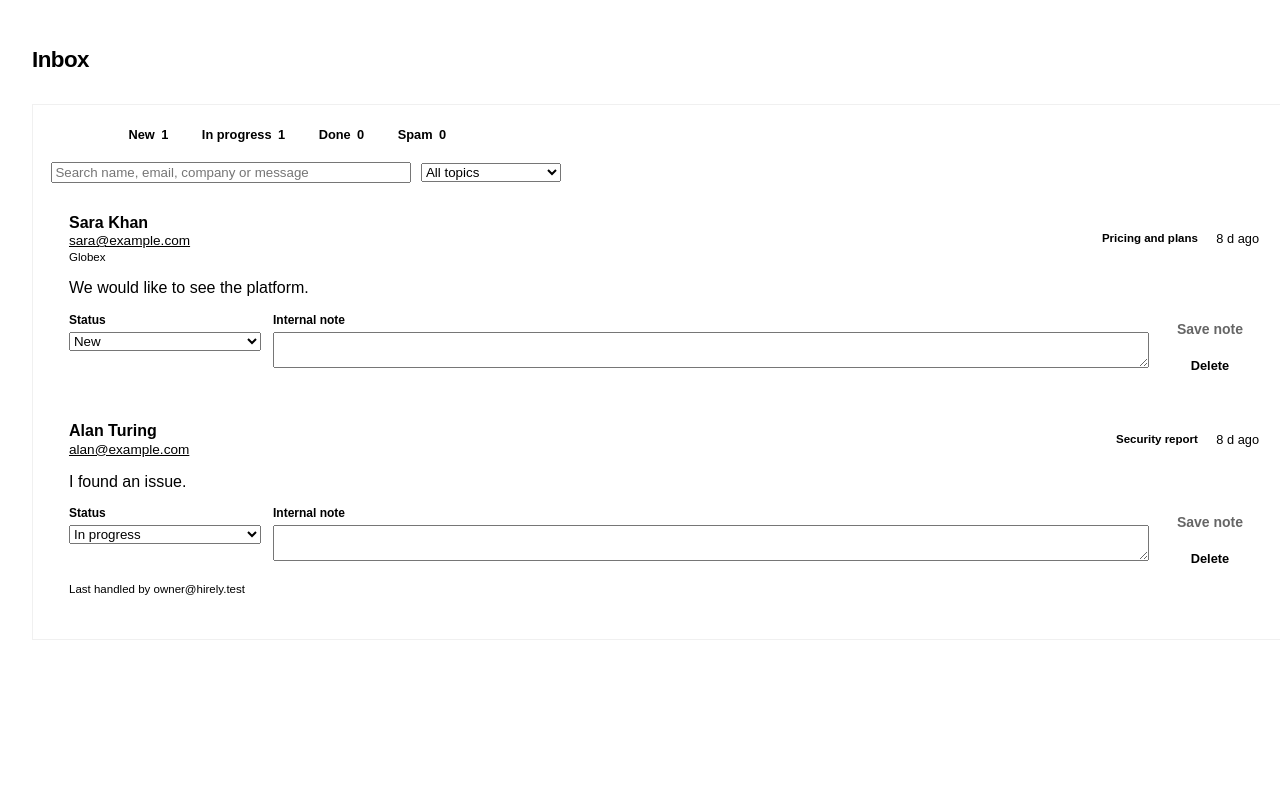
Test: PlatformInboxPage: working a message › shows the server wording when a change is refused
Check: the text "Sara Khan" is shown, box [69,214,148,230]
Type "x" into the text box labelled "Internal note" below "Sara Khan".
click(711, 350); type("x")  # box [273,332,1149,368]
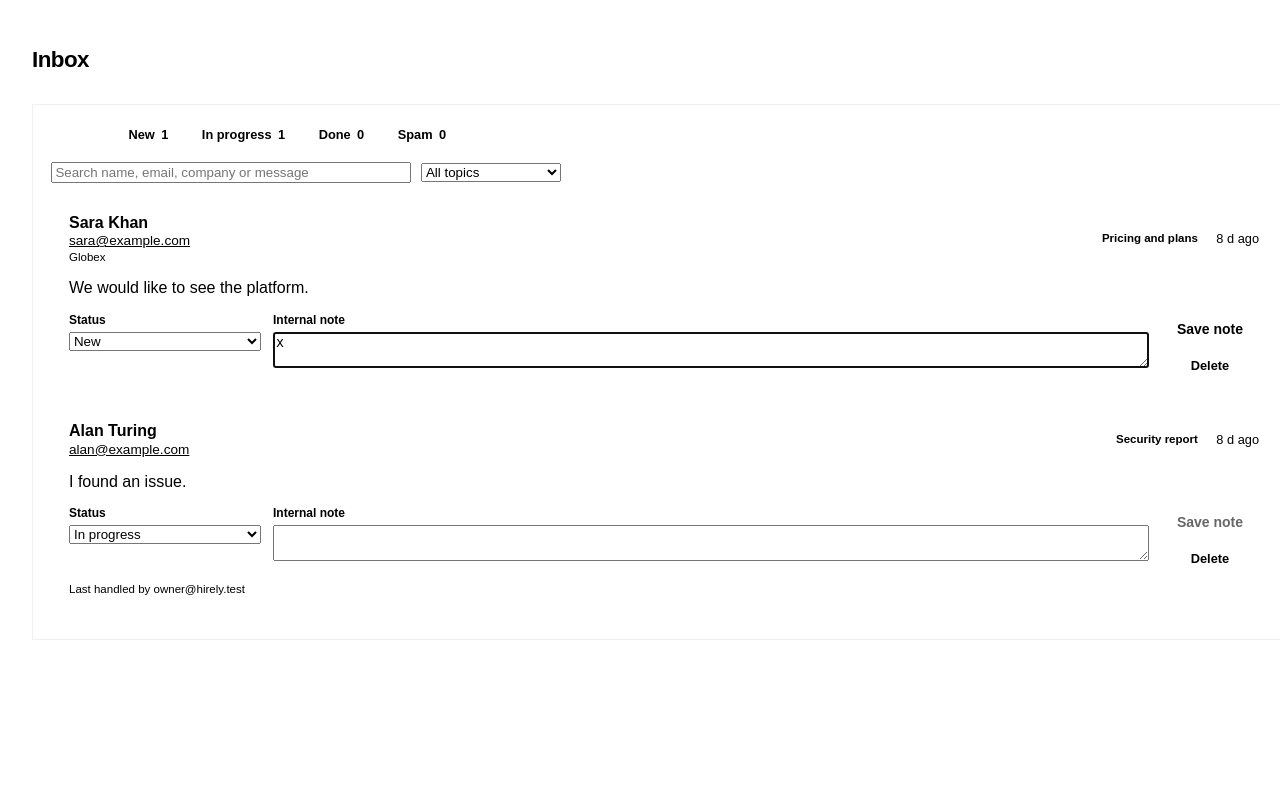
Click the button "Save note" below "Pricing and plans".
click(1210, 329)  # box [1161,313,1259,345]
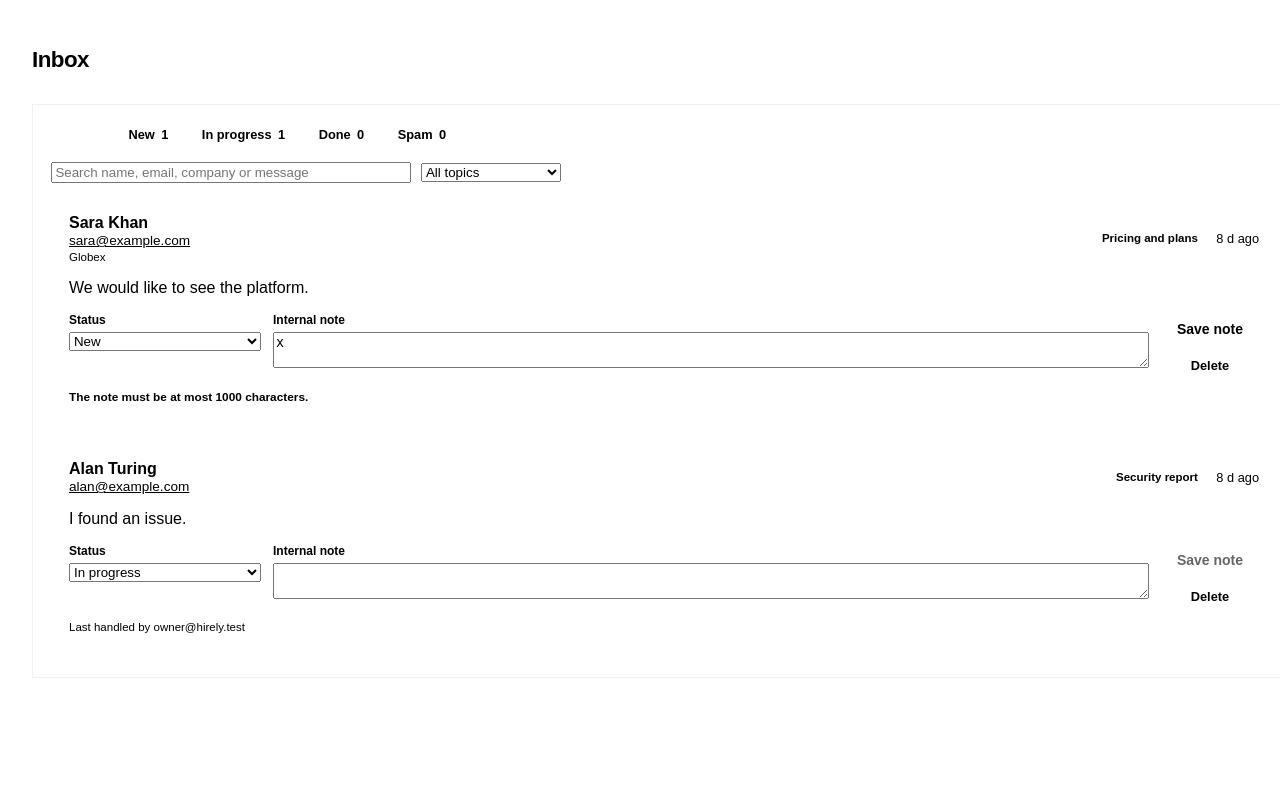
Check: the message reads "The note must be at most 1000 characters.", box [69,390,308,404]
